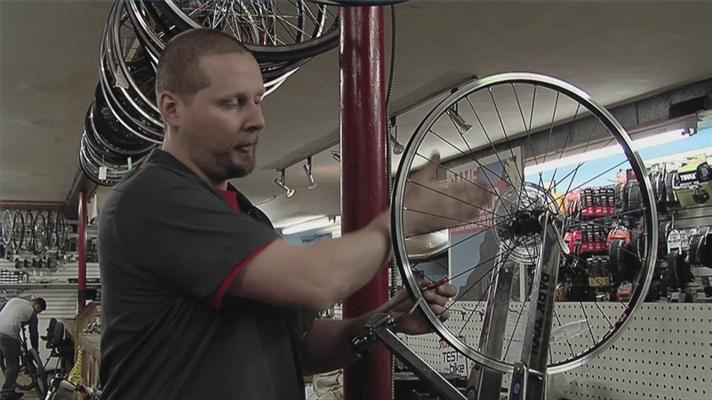person: (94, 26, 502, 400)
